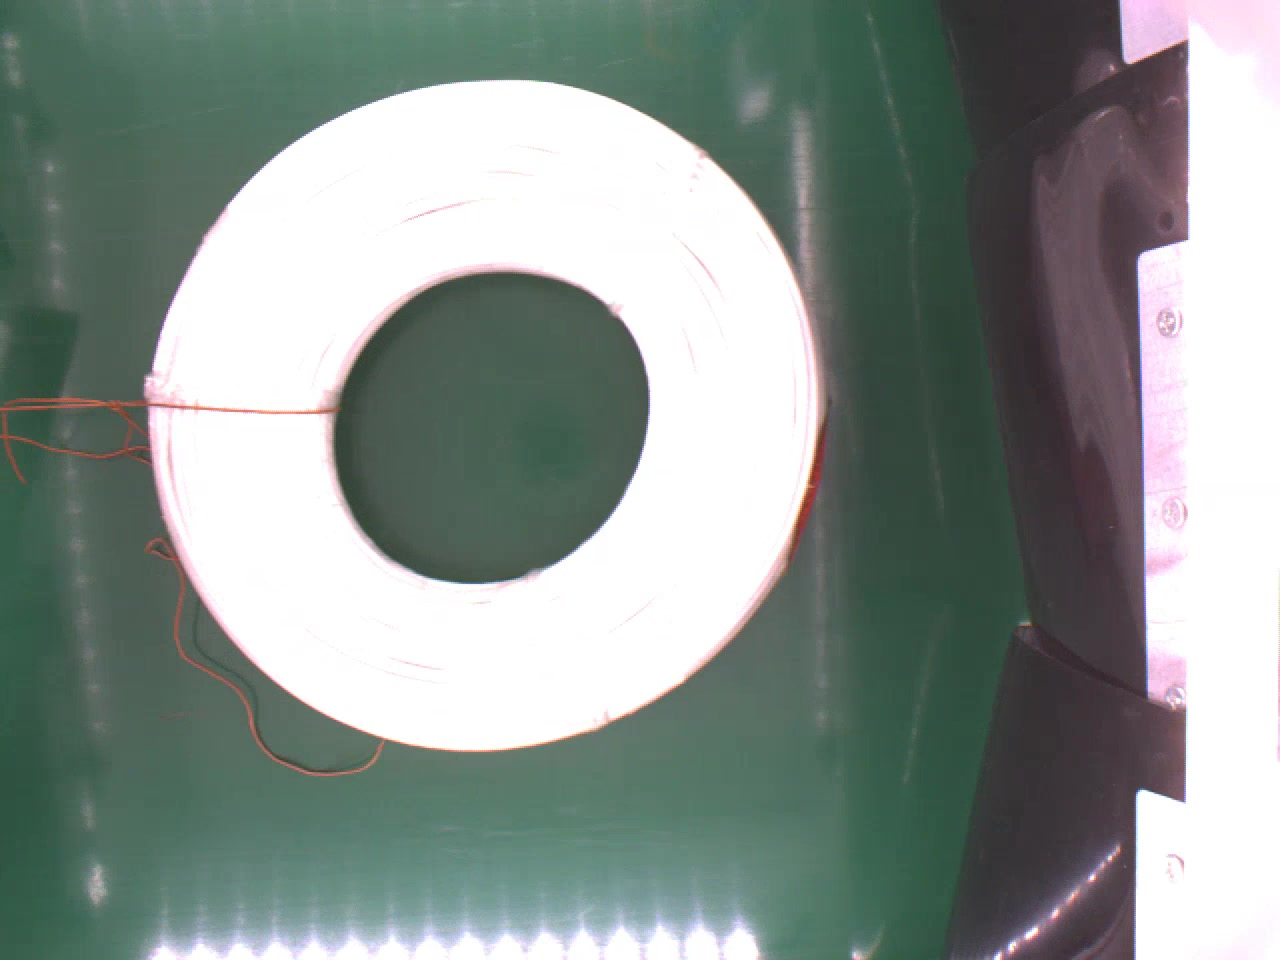white: (143, 75, 826, 750)
